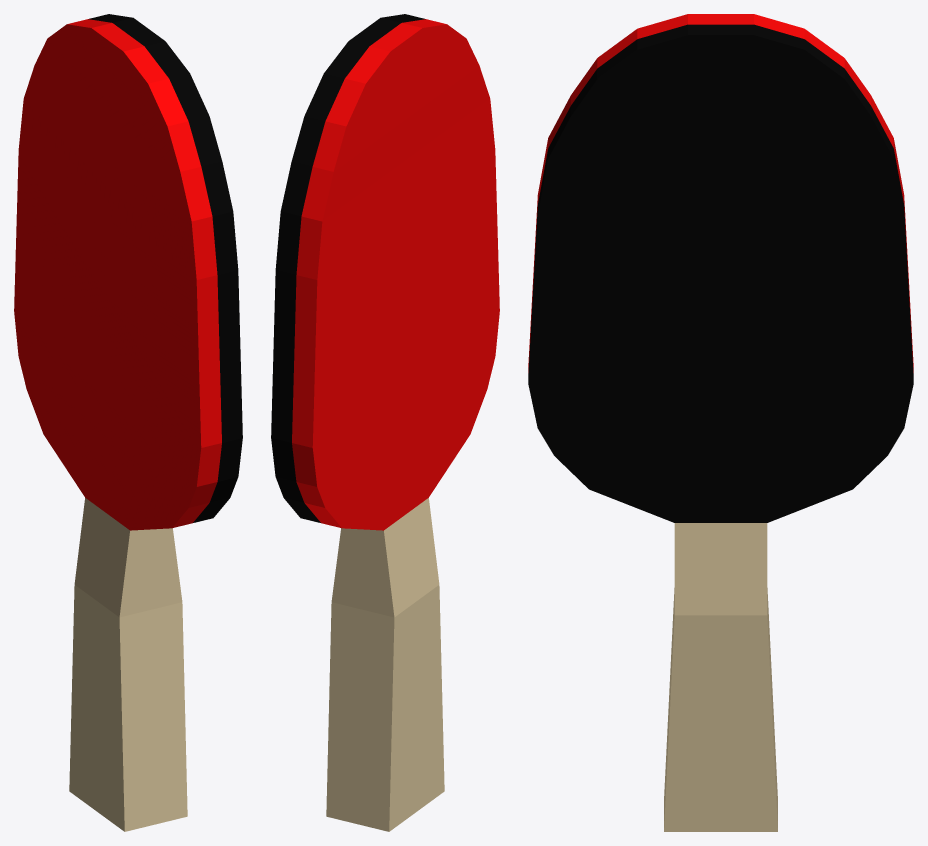
File: Racket.fbx
3 renders of one model, left to right at view 1: azimuth 30°, elevation 25°; view 2: azimuth 150°, elevation 25°; view 3: azimuth 270°, elevation 25°, orthographic. The views are drawn at different scales.
Parts seen in each view (by area): view 1: BodyRed, Handle, BodyBlack; view 2: BodyRed, Handle, BodyBlack; view 3: BodyBlack, Handle, BodyRed.
Part boxes in pixels (x1=…): BodyRed: x1=14, y1=19, x2=221, y2=530; Handle: x1=69, y1=498, x2=187, y2=831; BodyBlack: x1=88, y1=14, x2=242, y2=522; BodyRed: x1=292, y1=19, x2=499, y2=530; Handle: x1=326, y1=498, x2=444, y2=831; BodyBlack: x1=271, y1=14, x2=425, y2=522; BodyBlack: x1=528, y1=24, x2=913, y2=522; Handle: x1=664, y1=523, x2=777, y2=831; BodyRed: x1=528, y1=14, x2=913, y2=372.
Bounding box in the file's own units: 40.28 × 471 × 208.
